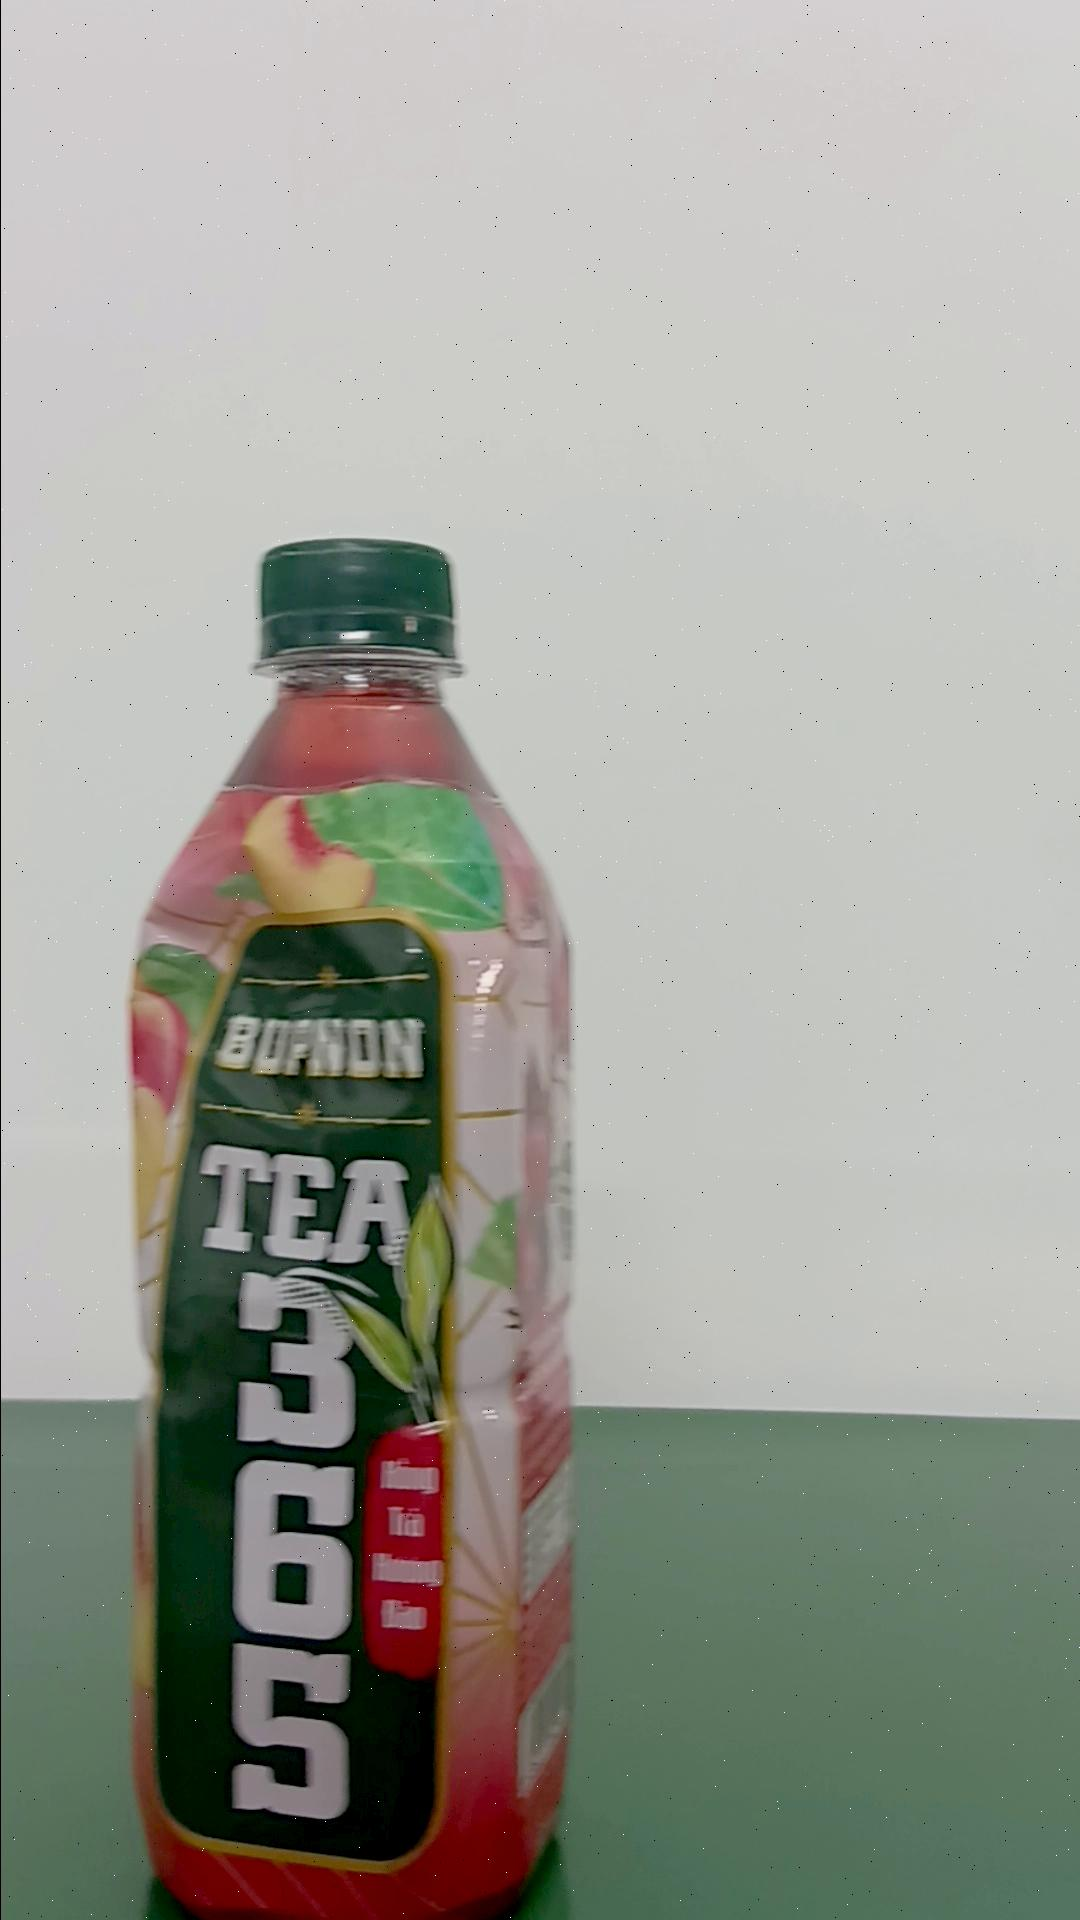loi meo sp: (124, 534, 580, 1915)
